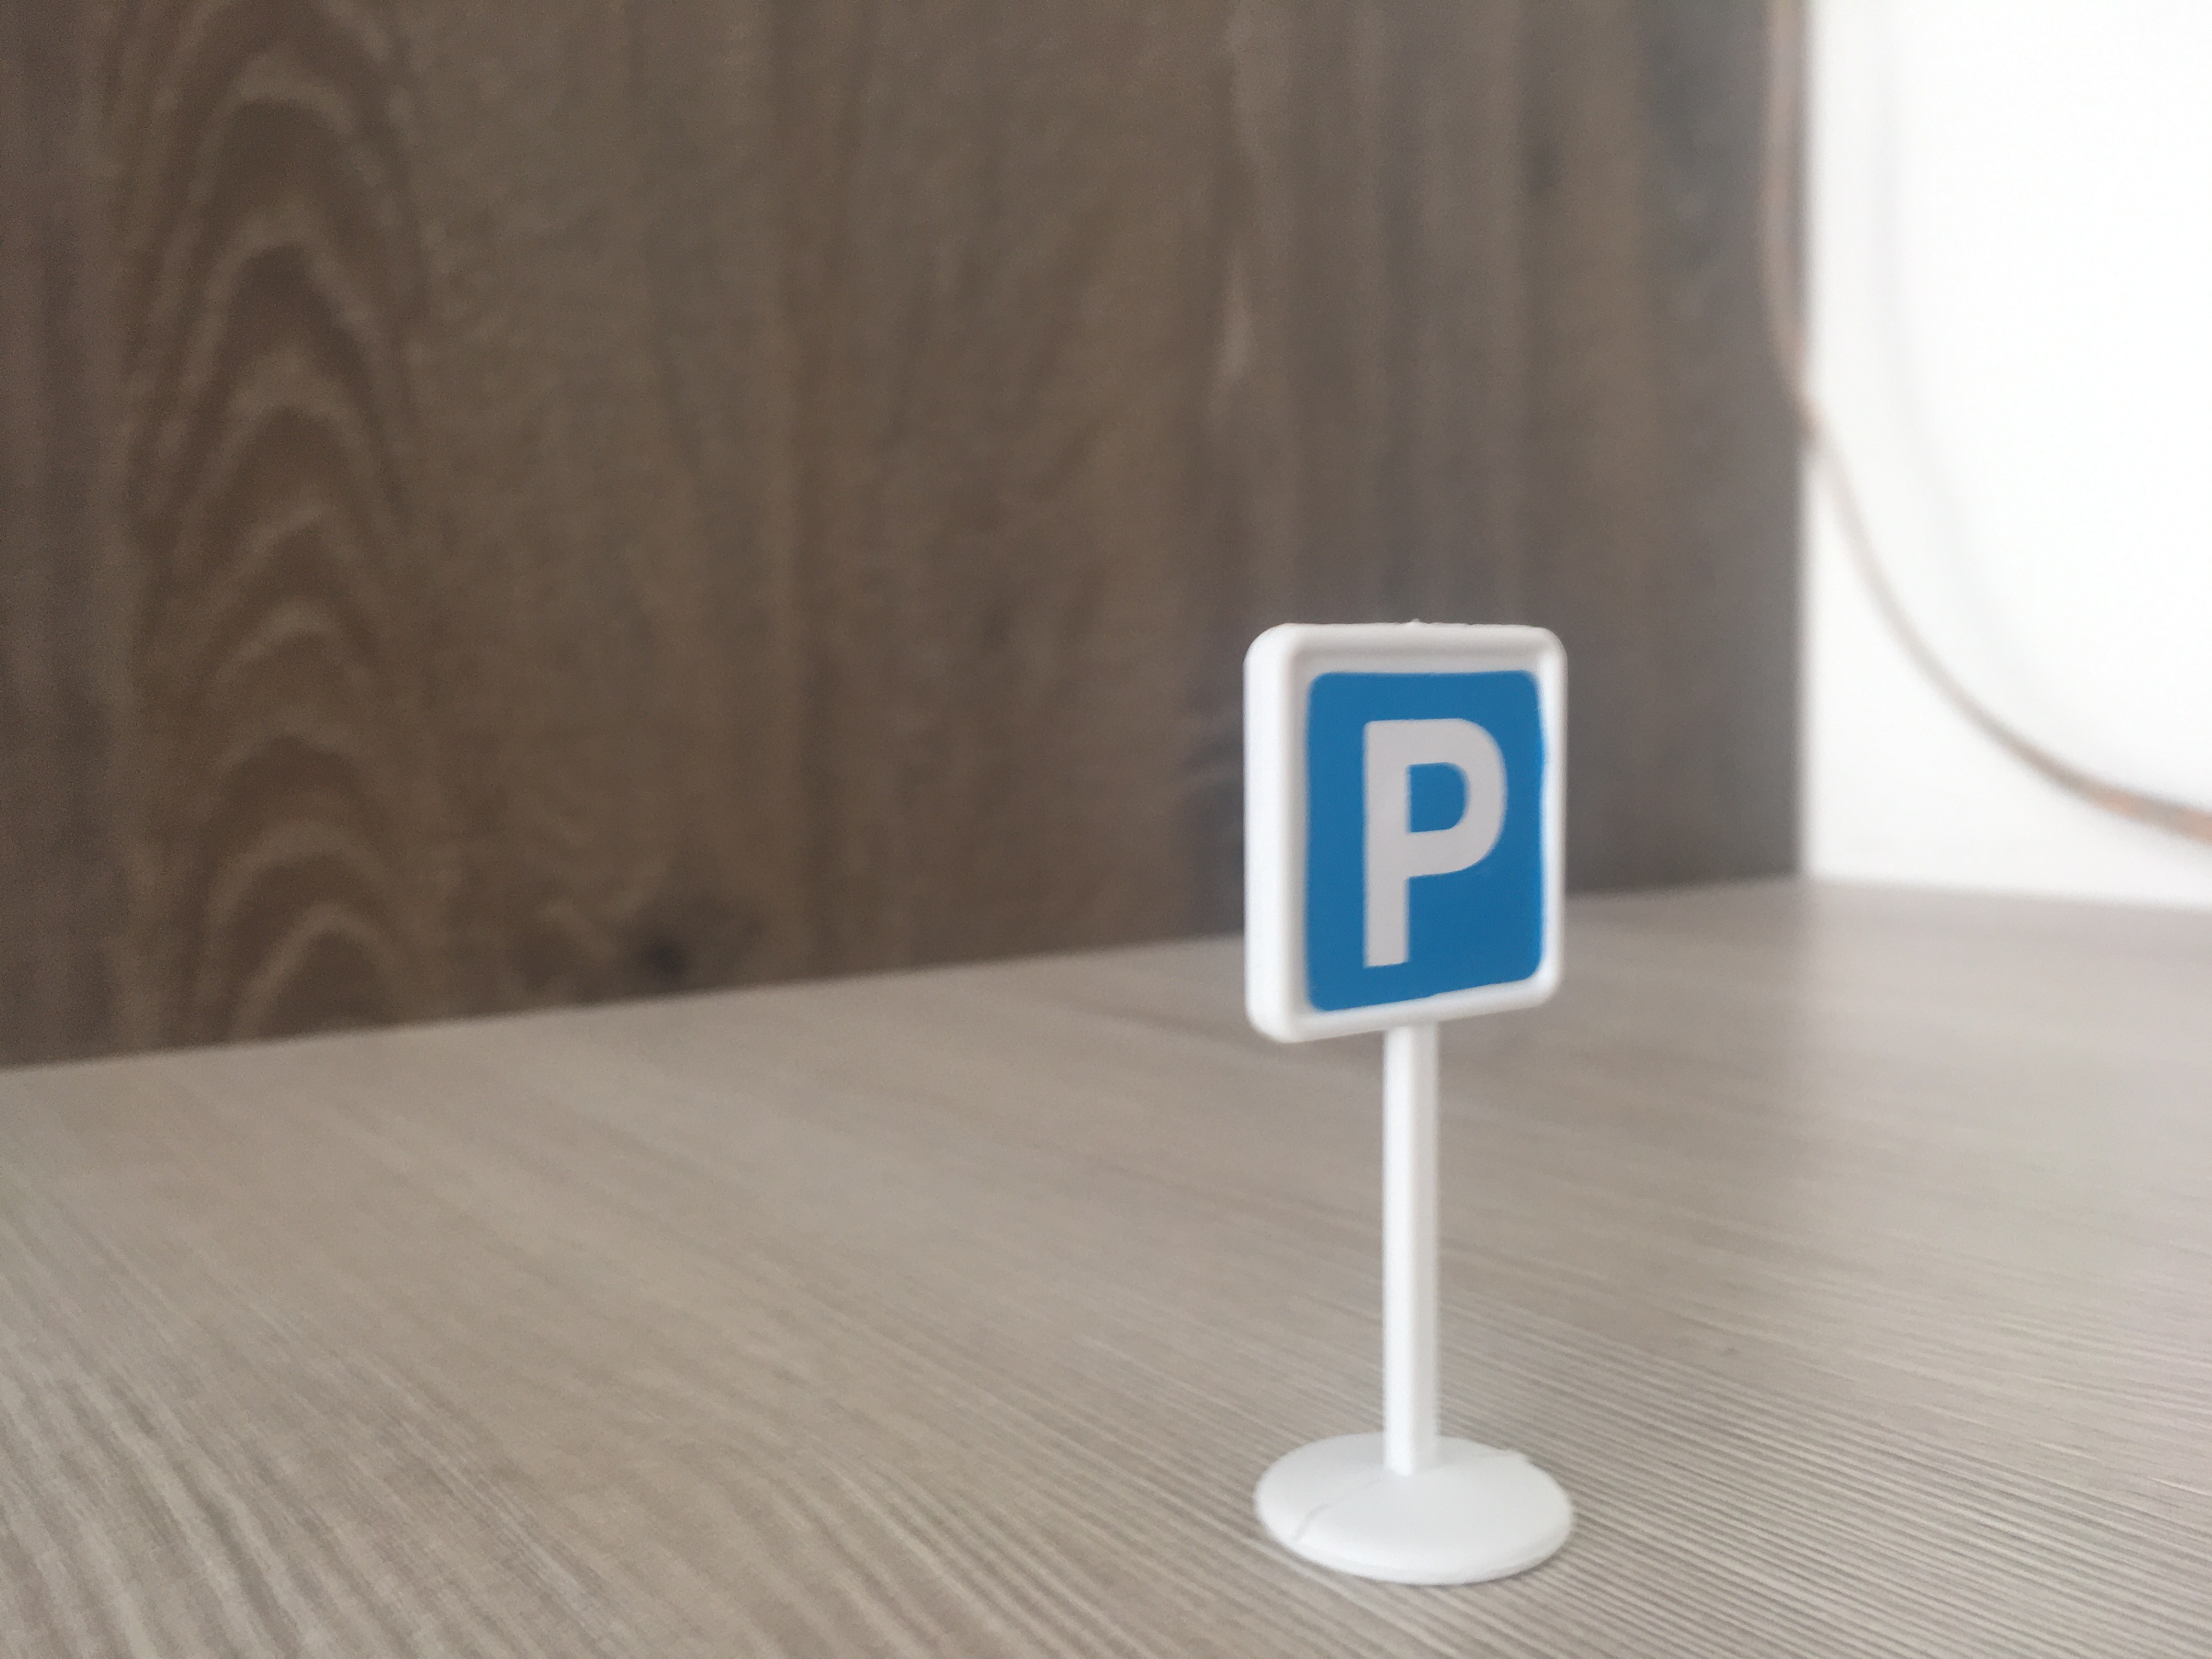parking: (1233, 617, 1568, 1047)
